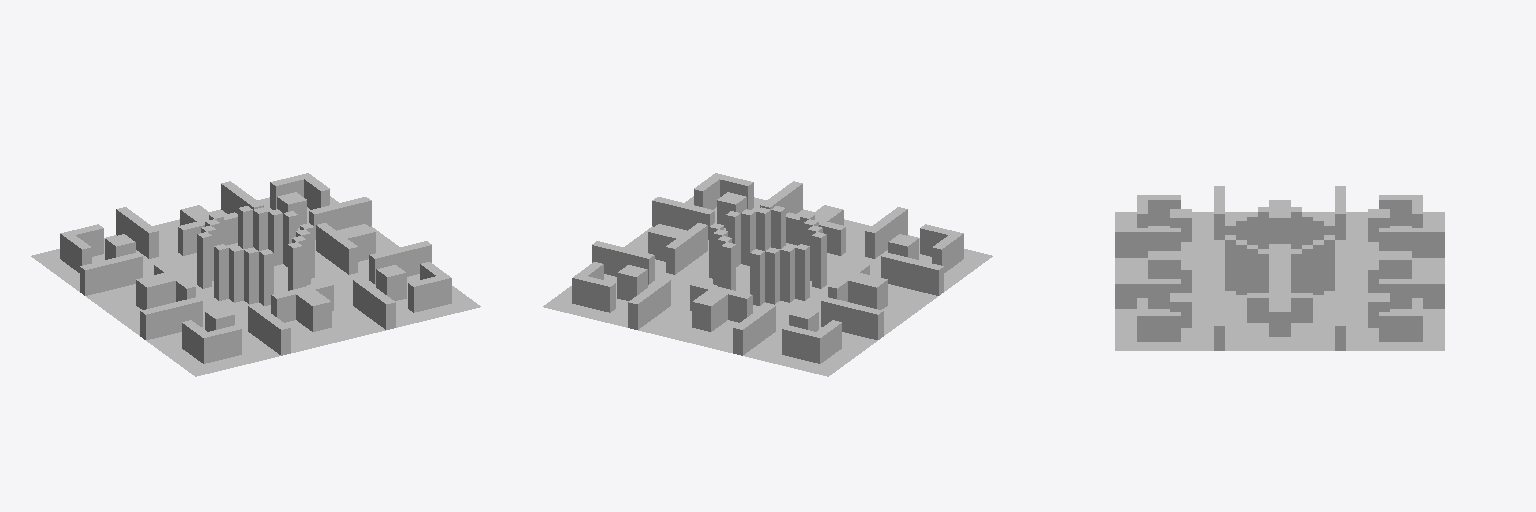
Rendered from test_arena.obj.
The picture shows the model from 3 angles: view 1: azimuth 30°, elevation 25°; view 2: azimuth 150°, elevation 25°; view 3: azimuth 270°, elevation 25°; orthographic projection.
Visible parts, largest first — view 1: Plane; view 2: Plane; view 3: Plane.
Boxes of the visible parts, x1,y1,x2,y2 form: Plane: [31, 173, 480, 376]; Plane: [543, 173, 992, 376]; Plane: [1115, 186, 1444, 350].
Size of the model in its own units: 348 by 59.18 by 348.